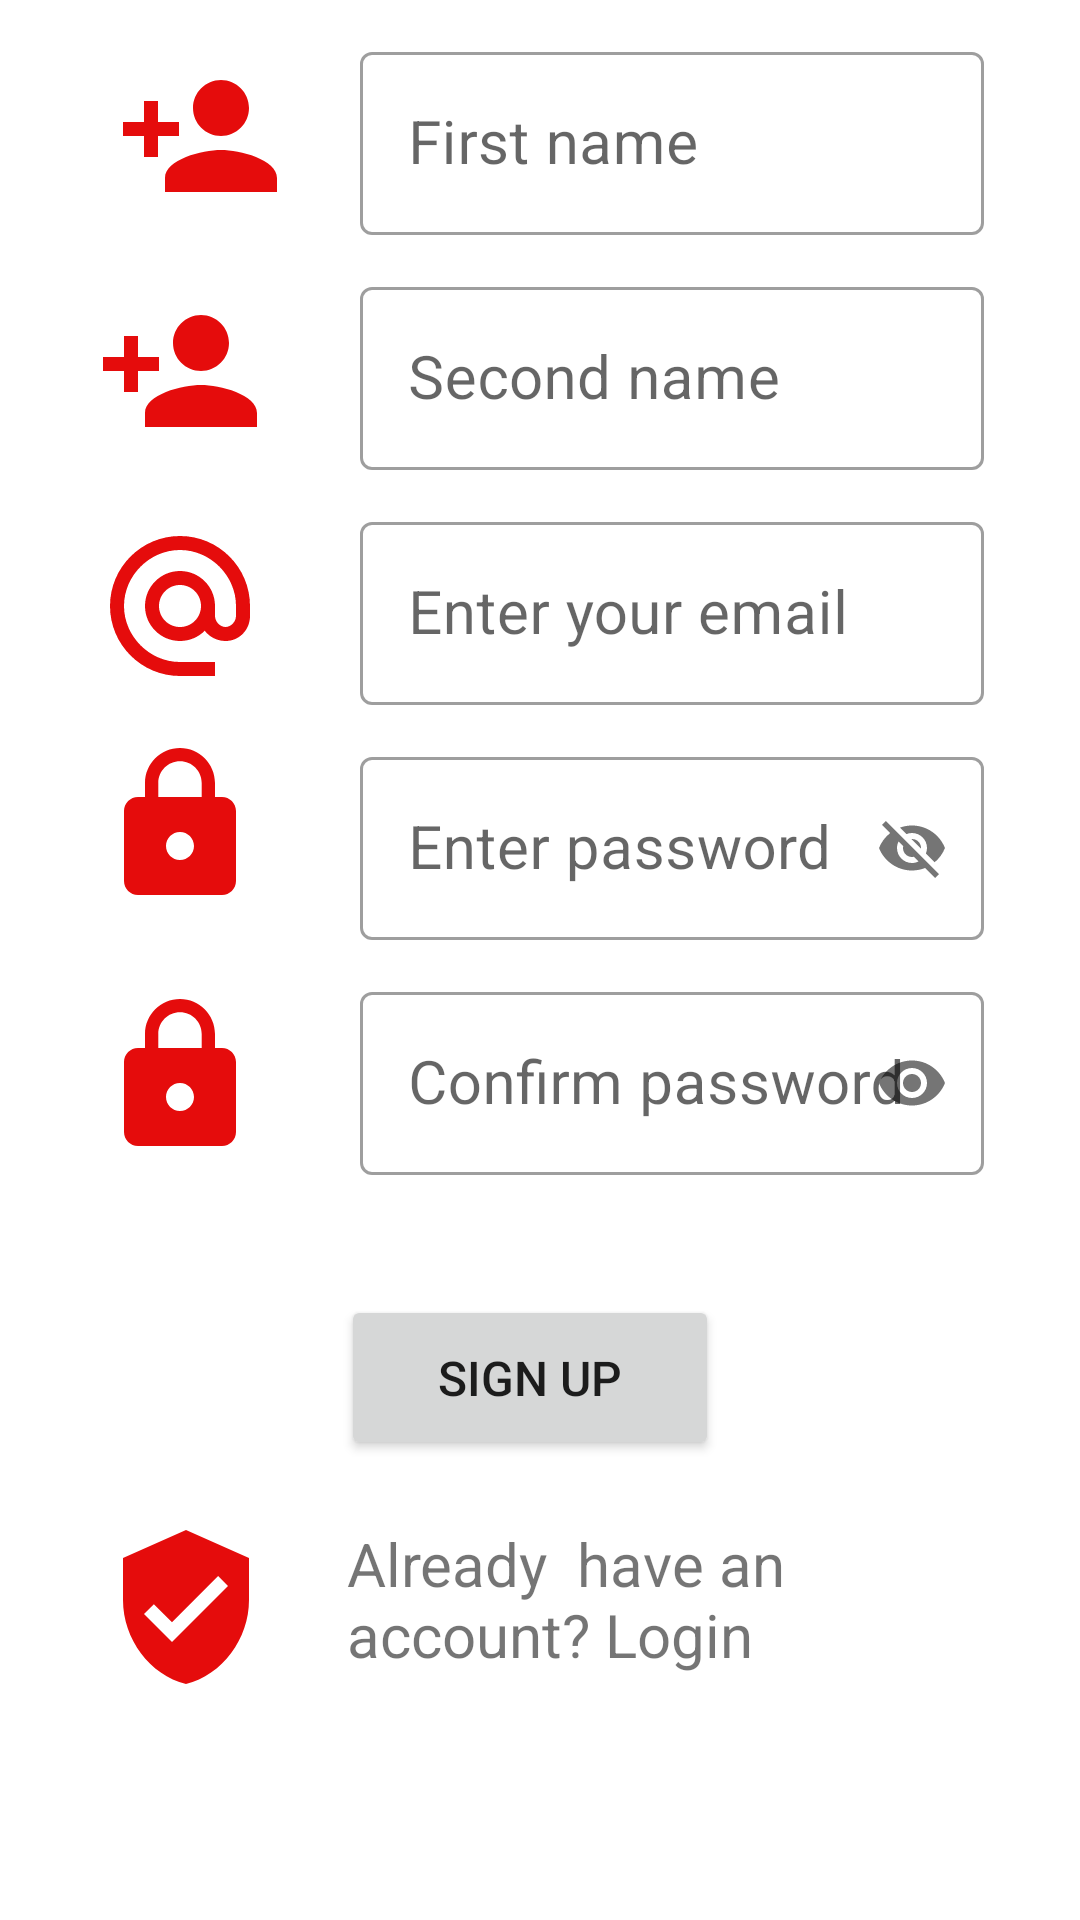

Screen size 1080w x 1920h. Icon name, then its center in pixels as point (x, y):
alternate email: point (180, 606)
lock: point (180, 821), point (180, 1072)
person add: point (200, 136), point (180, 371)
verified user: point (186, 1607)
